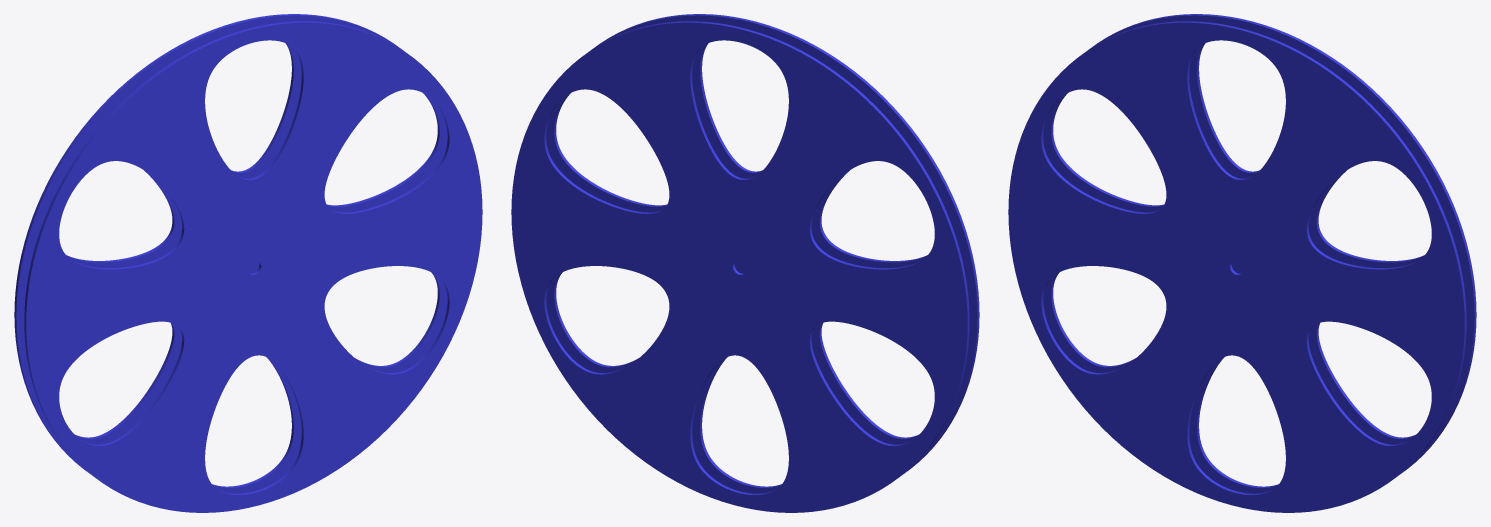
The model's file is reel.glb.
3 views of the same model, side by side, from view 1: azimuth 30°, elevation 25°; view 2: azimuth 150°, elevation 25°; view 3: azimuth 330°, elevation 25° (orthographic).
Parts seen in each view (by area): view 1: reel-Back, reel-Front; view 2: reel-Front, reel-Back; view 3: reel-Back, reel-Front.
Part boxes in pixels (bbox=[...]): reel-Back: bbox=[24, 21, 482, 512]; reel-Front: bbox=[14, 14, 447, 493]; reel-Front: bbox=[511, 21, 969, 512]; reel-Back: bbox=[546, 14, 979, 493]; reel-Back: bbox=[1008, 21, 1466, 512]; reel-Front: bbox=[1043, 14, 1476, 493].
Bounding box in the file's own units: 268 × 268 × 12.
